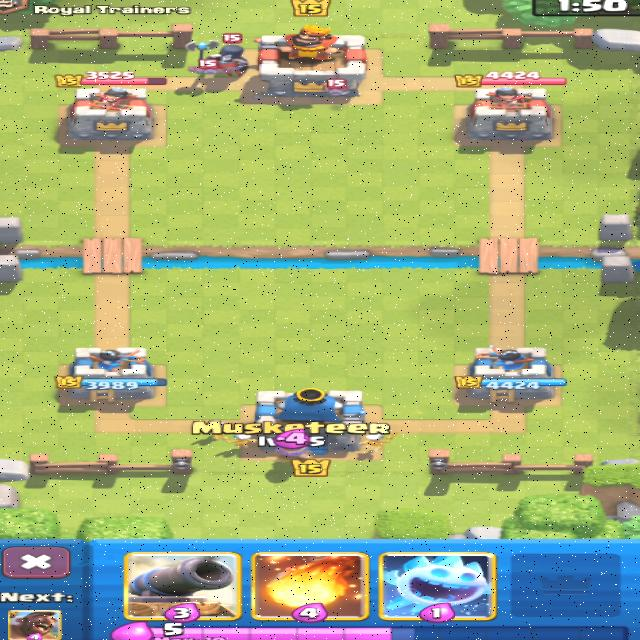Enemy-Bat: (188, 59, 216, 74), (325, 79, 344, 94)
Enemy-KingTower: (257, 23, 366, 96)
Enemy-NightWitch: (185, 40, 247, 75)
Enemy-PrincessTower: (463, 87, 552, 145), (69, 87, 151, 139)
Player-KingTower: (257, 388, 363, 422)
Player-PrincessTower: (454, 347, 555, 402), (55, 347, 153, 403)
Player-Skeleton: (361, 433, 397, 450), (215, 434, 255, 446)
